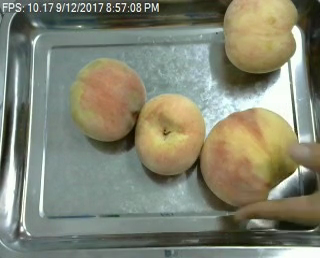Peach: (198, 107, 298, 207), (69, 57, 145, 142), (134, 94, 204, 176), (221, 0, 297, 74)
